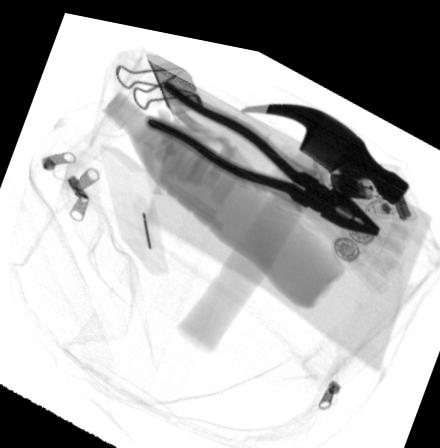Hammer: (177, 91, 409, 345)
Pliers: (146, 75, 381, 222)
